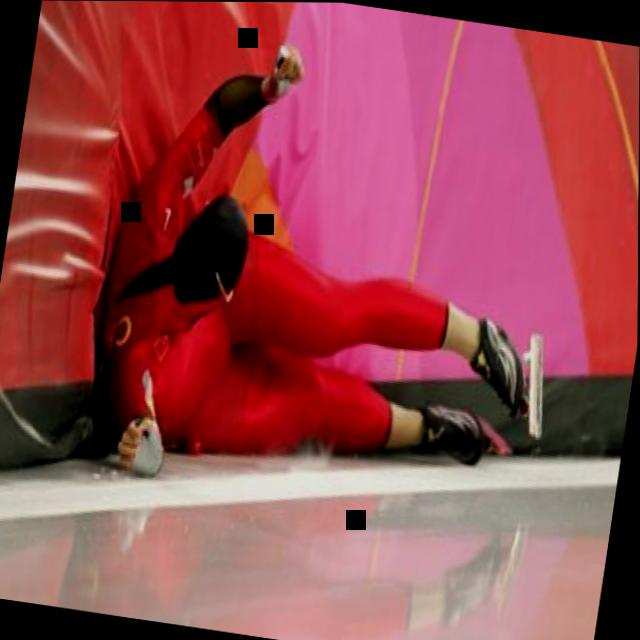Fall-Detected: (48, 0, 601, 527)
